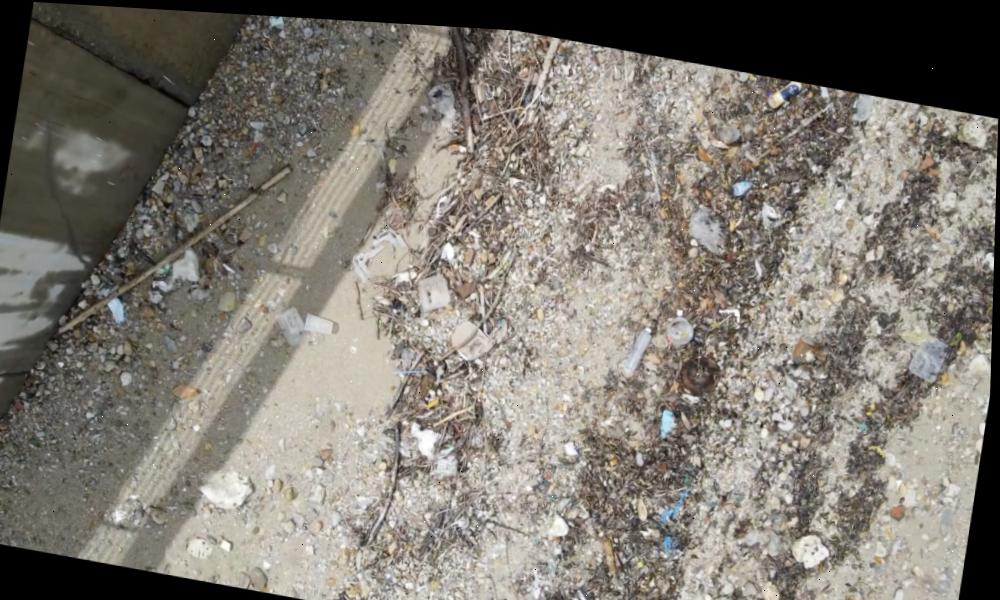plastic bag: (425, 74, 463, 127)
plastic bottle: (761, 67, 816, 107), (626, 311, 658, 363)
plastic container: (907, 308, 957, 377), (276, 300, 312, 349), (295, 308, 344, 335), (665, 305, 697, 338)
